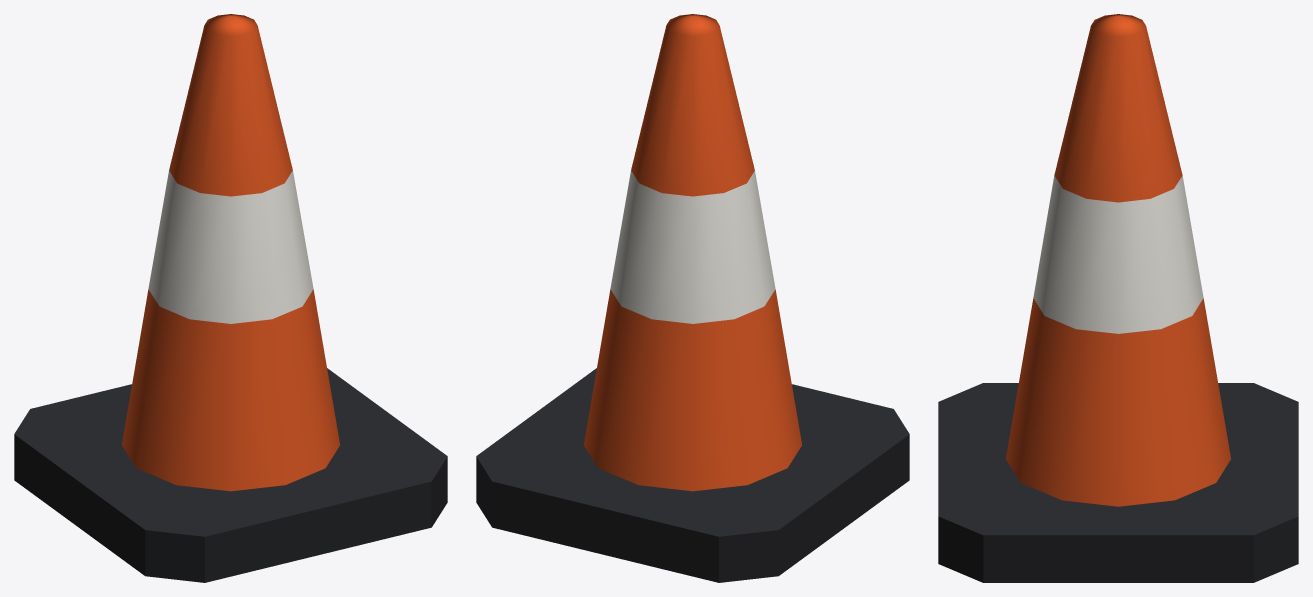
3 renders of one model, left to right at view 1: azimuth 30°, elevation 25°; view 2: azimuth 150°, elevation 25°; view 3: azimuth 270°, elevation 25°, orthographic. The views are drawn at different scales.
Visible parts, largest first — view 1: pylon; view 2: pylon; view 3: pylon.
Boxes of the visible parts, x1=… form: pylon: x1=14, y1=14, x2=447, y2=582; pylon: x1=476, y1=14, x2=909, y2=582; pylon: x1=938, y1=14, x2=1298, y2=582.
Size of the model in its own units: 0.72 by 1.08 by 0.72.
